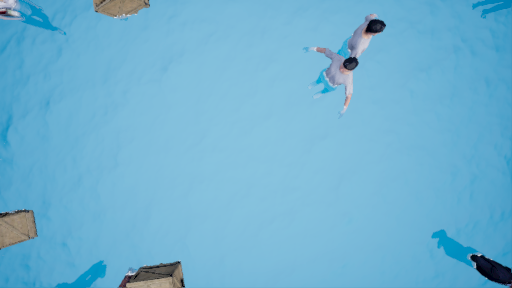person: (301, 45, 363, 114), (336, 17, 390, 66)
